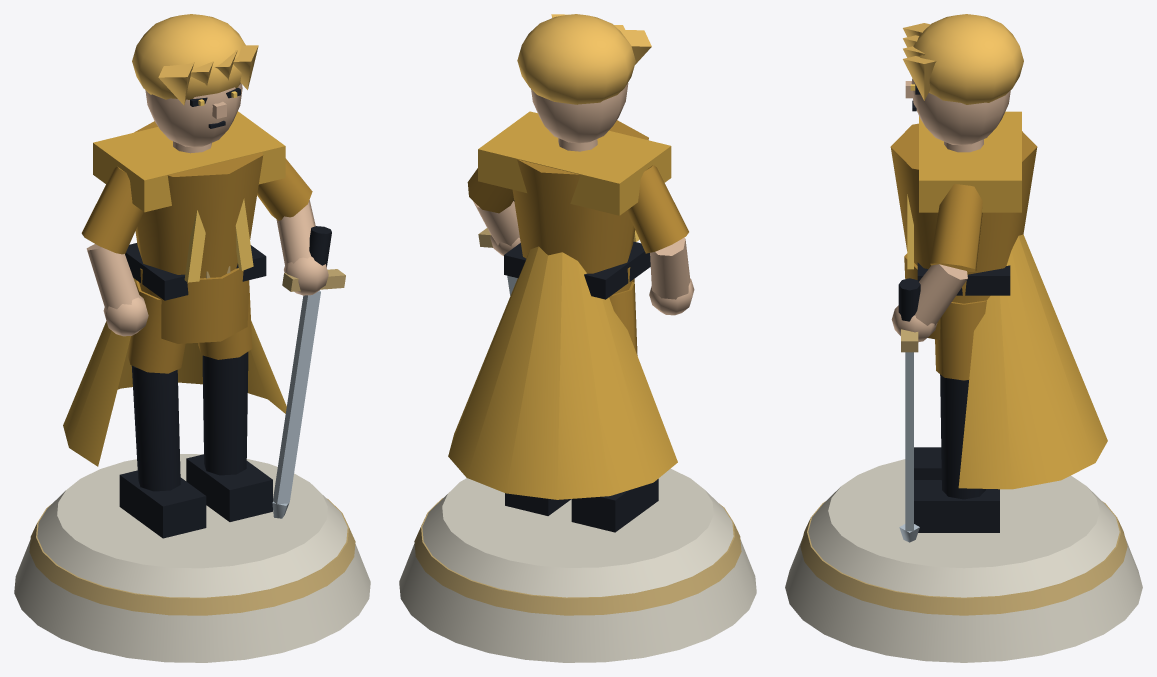
The model's file is zenitsu.glb.
3 views of the same model, side by side, from view 1: azimuth 30°, elevation 25°; view 2: azimuth 150°, elevation 25°; view 3: azimuth 270°, elevation 25° (orthographic).
Visible parts, largest first — view 1: Placeholder Zenitsu Agatsuma; view 2: Placeholder Zenitsu Agatsuma; view 3: Placeholder Zenitsu Agatsuma.
Boxes of the visible parts, x1,y1,x2,y2 form: Placeholder Zenitsu Agatsuma: (14, 14, 370, 662); Placeholder Zenitsu Agatsuma: (399, 14, 756, 662); Placeholder Zenitsu Agatsuma: (785, 14, 1142, 662).
Size of the model in its own units: 0.54 by 0.9438 by 0.54.
